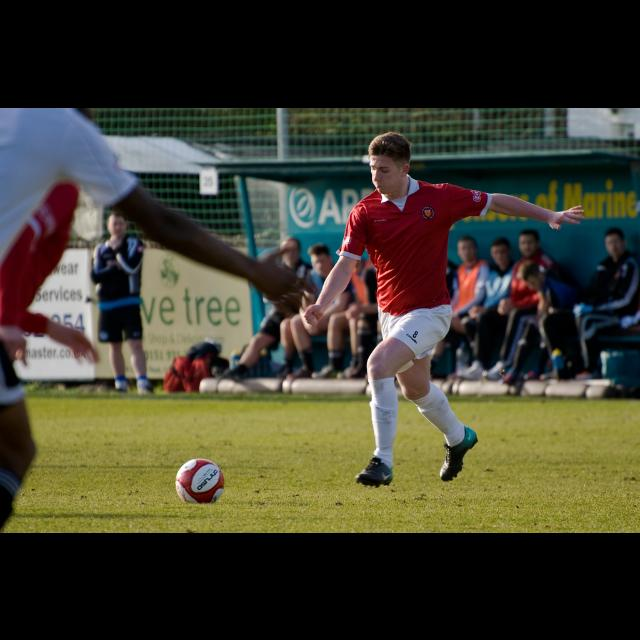Football: (172, 456, 224, 502)
